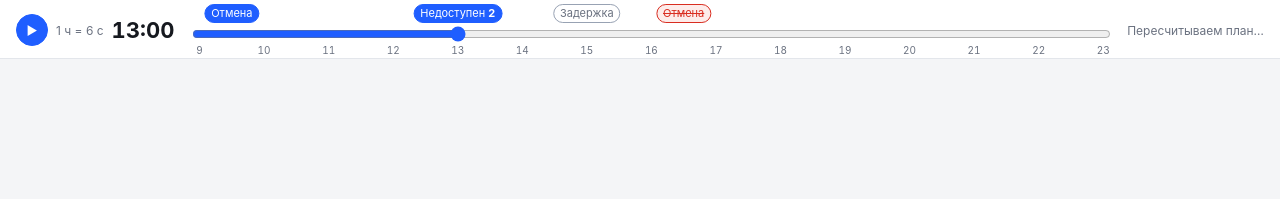
Test: TimeBar › does not delete an event while replanning
The width and height of the screenshot is (1280, 199).
Click the button titled "Задержка: Бригада Арташкин": click(587, 14) [553,4,621,23]
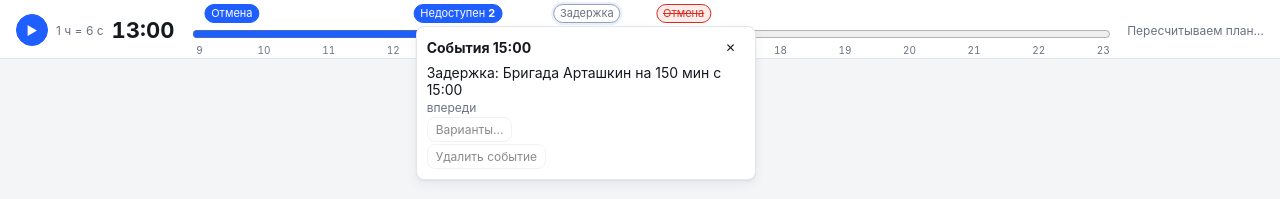
expect the button "Удалить событие" is disabled: met, box [427,144,546,169]
